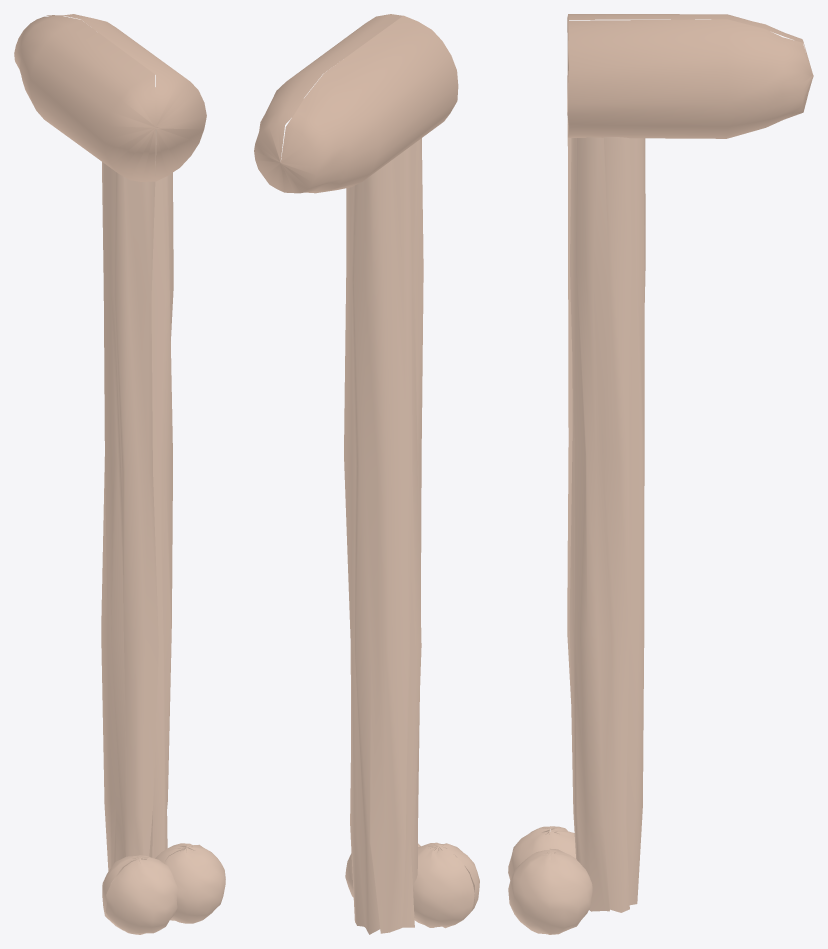
File: jemo-genital-src.glb
3 views of the same model, side by side, from view 1: azimuth 30°, elevation 25°; view 2: azimuth 150°, elevation 25°; view 3: azimuth 270°, elevation 25° (orthographic). The views are drawn at different scales.
Visible parts, largest first — view 1: object 1, penis_tip, object 3, object 4; view 2: object 1, penis_tip, object 3; view 3: object 1, penis_tip, object 4, object 3.
Part boxes in pixels (x1=…): object 1: x1=101, y1=129, x2=173, y2=871; penis_tip: x1=14, y1=14, x2=206, y2=181; object 3: x1=102, y1=855, x2=177, y2=934; object 4: x1=155, y1=843, x2=225, y2=923; object 1: x1=344, y1=138, x2=423, y2=934; penis_tip: x1=254, y1=14, x2=458, y2=193; object 3: x1=413, y1=842, x2=479, y2=928; object 1: x1=567, y1=118, x2=645, y2=912; penis_tip: x1=567, y1=14, x2=813, y2=138; object 4: x1=508, y1=848, x2=592, y2=934; object 3: x1=508, y1=826, x2=575, y2=879.
Size of the model in its own units: 0.7041 by 4.92 by 1.51.
